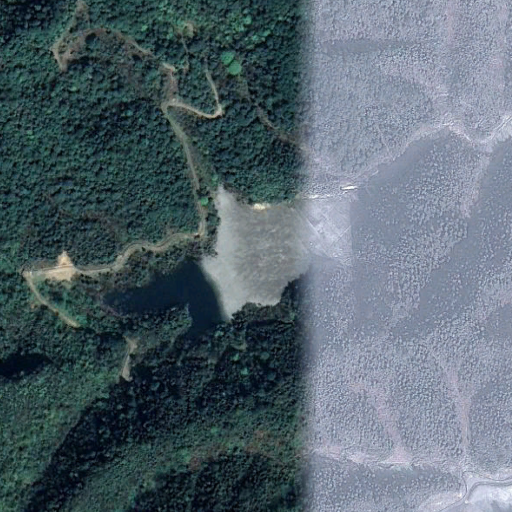tp: (129, 180, 358, 350)
